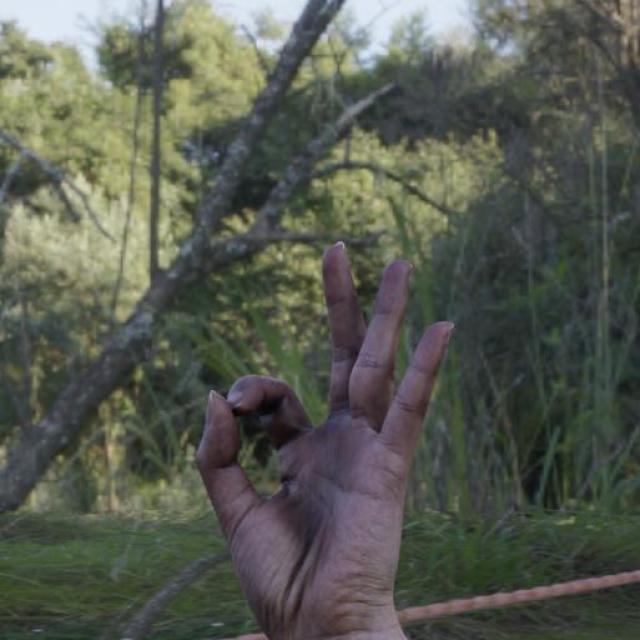F: (188, 239, 456, 615)
